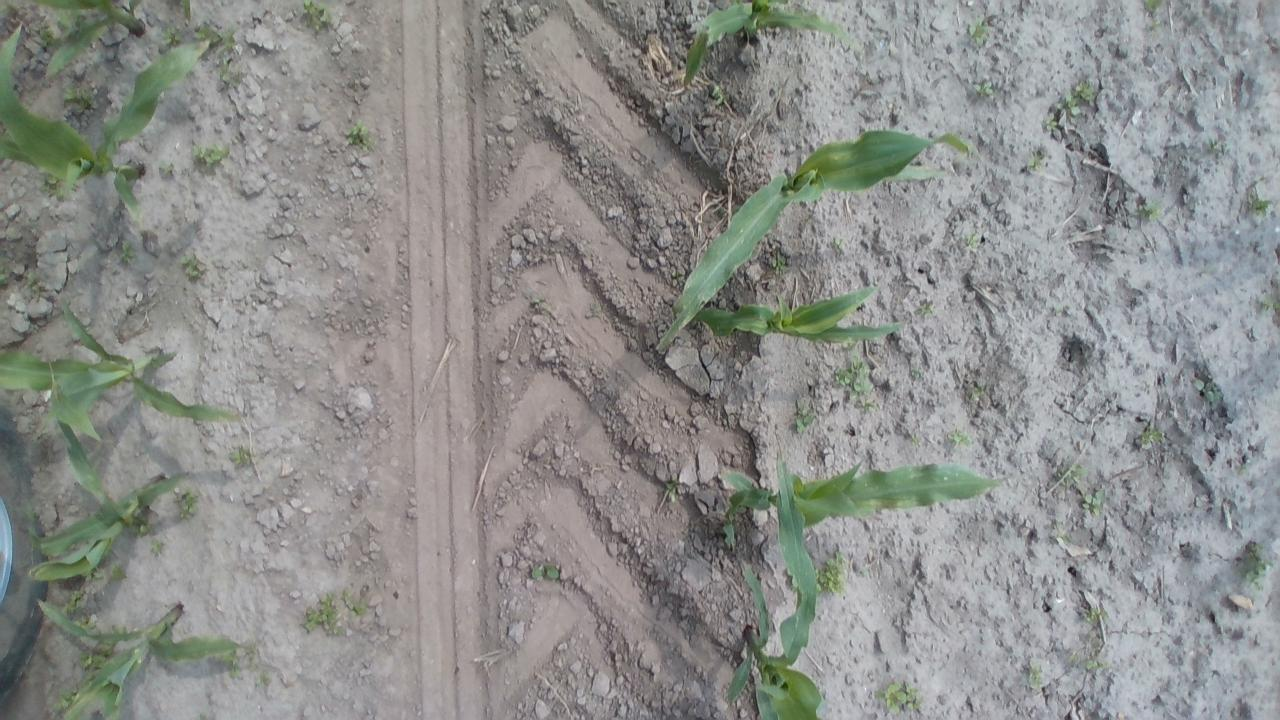Maize: (662, 122, 973, 350), (1, 23, 232, 229), (23, 365, 192, 585), (0, 296, 240, 424), (723, 458, 826, 714), (712, 459, 1007, 546), (38, 594, 240, 718), (665, 272, 913, 346), (682, 0, 854, 94), (22, 0, 194, 79)
Weeds: (834, 354, 874, 403), (1236, 540, 1272, 592), (300, 592, 340, 636), (1054, 78, 1094, 122), (874, 680, 924, 714), (816, 551, 851, 597), (192, 142, 233, 172), (76, 642, 116, 672), (342, 116, 376, 150), (297, 1, 335, 31), (60, 85, 98, 114), (192, 20, 234, 45), (1078, 640, 1109, 672), (172, 488, 200, 523), (1054, 460, 1088, 488), (1192, 373, 1220, 406), (791, 402, 817, 434), (179, 252, 208, 280), (1136, 424, 1166, 451), (38, 173, 68, 200), (1142, 0, 1170, 28), (60, 588, 86, 618), (220, 648, 242, 682), (660, 473, 684, 503), (1082, 486, 1106, 516), (229, 444, 257, 469), (1246, 192, 1270, 221), (220, 61, 244, 90), (530, 561, 562, 582), (968, 18, 989, 47), (1024, 148, 1048, 173), (947, 427, 974, 449), (55, 686, 79, 710), (1138, 197, 1162, 221), (970, 80, 996, 102), (346, 594, 368, 618), (768, 252, 789, 277), (36, 24, 57, 49), (244, 641, 262, 670), (24, 274, 45, 298), (708, 83, 728, 108), (119, 240, 139, 264), (961, 231, 983, 252), (132, 514, 154, 535), (160, 24, 180, 47), (1026, 660, 1042, 688), (1206, 137, 1227, 158), (156, 160, 178, 180), (966, 384, 988, 404), (1256, 292, 1276, 314), (914, 298, 936, 318), (252, 669, 274, 688), (1084, 604, 1107, 622), (529, 293, 547, 315), (1042, 114, 1061, 134), (860, 395, 881, 412), (150, 535, 168, 554), (76, 674, 96, 690), (106, 564, 126, 580), (76, 615, 98, 629), (908, 365, 926, 382), (784, 569, 798, 590), (832, 236, 848, 253), (1054, 532, 1072, 546), (84, 567, 101, 581), (0, 268, 11, 288), (109, 623, 128, 634), (1066, 650, 1080, 664), (909, 434, 920, 446), (1054, 307, 1060, 313)
